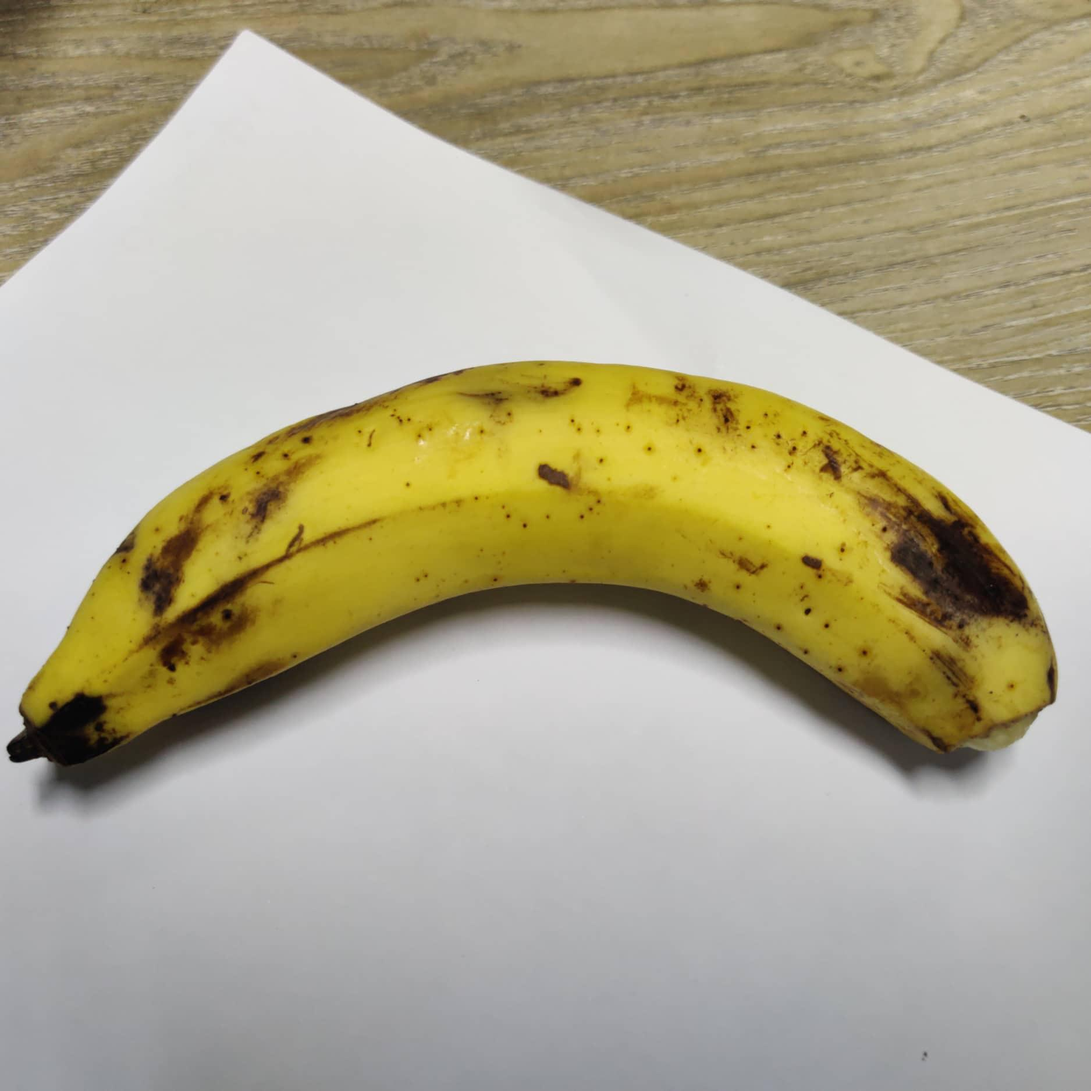Banana Ripe: (0, 350, 1091, 867)
